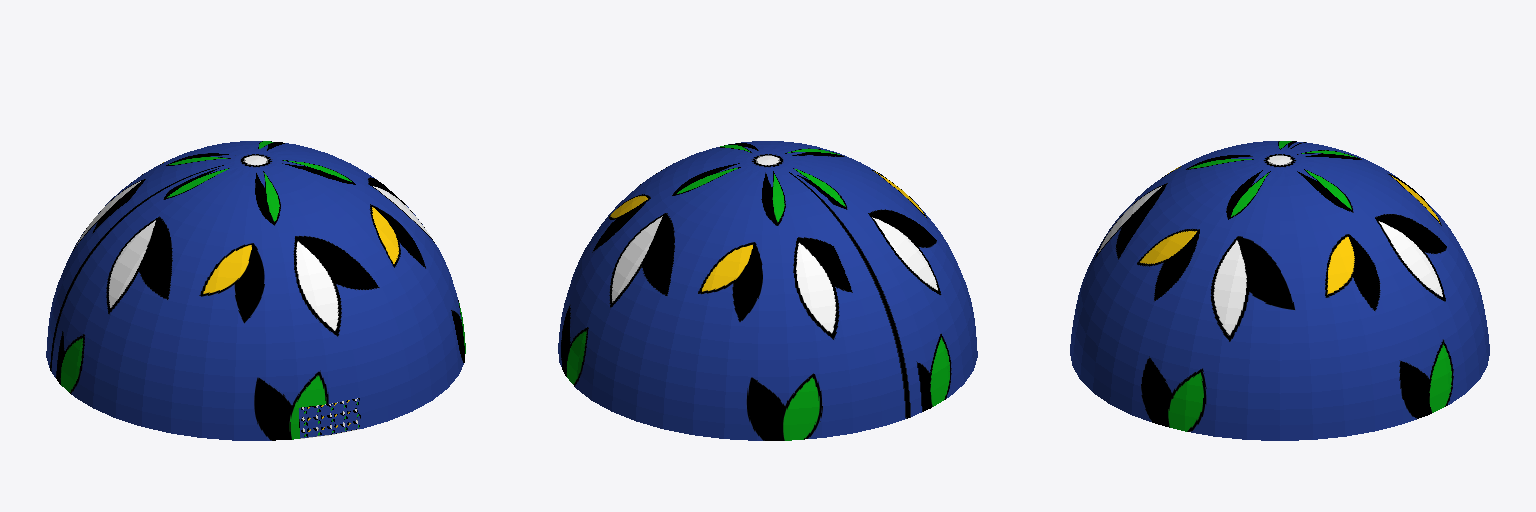
3 renders of one model, left to right at view 1: azimuth 30°, elevation 25°; view 2: azimuth 150°, elevation 25°; view 3: azimuth 270°, elevation 25°, orthographic.
Parts seen in each view (by area): view 1: pSphere2; view 2: pSphere2; view 3: pSphere2.
Boxes of the visible parts, box(x1,y1,x2,y2) form: pSphere2: box(46, 141, 465, 440); pSphere2: box(558, 141, 977, 440); pSphere2: box(1070, 141, 1489, 440).
Size of the model in its own units: 5.14 by 2.6 by 5.14.
Materials: 1 (1 with a texture image).